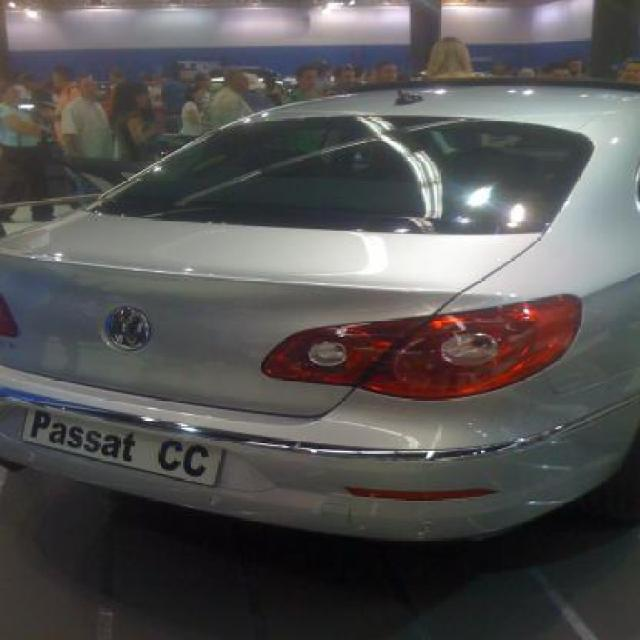License-Plates: (24, 394, 212, 484)
